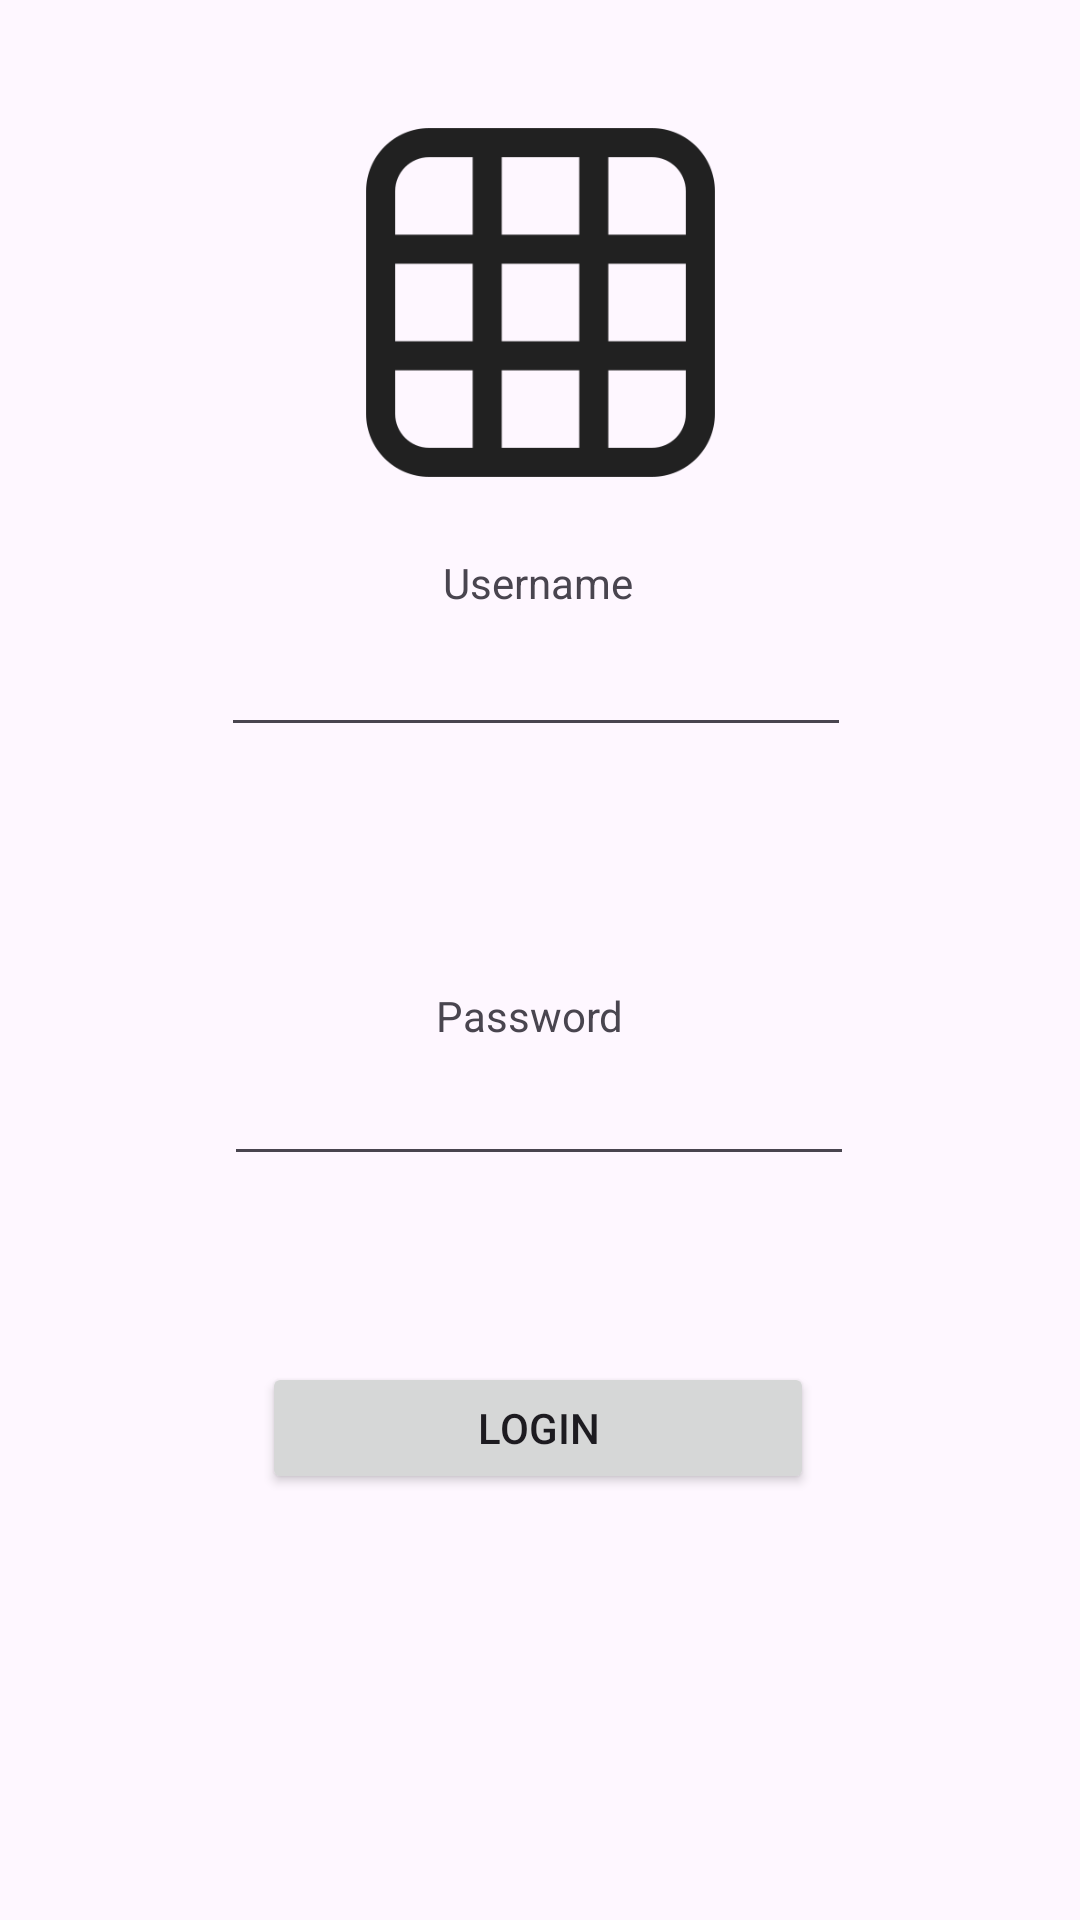

Where to tap for icons on this 1080 x 1920 app screen, as (x,y):
table: (540,302)
